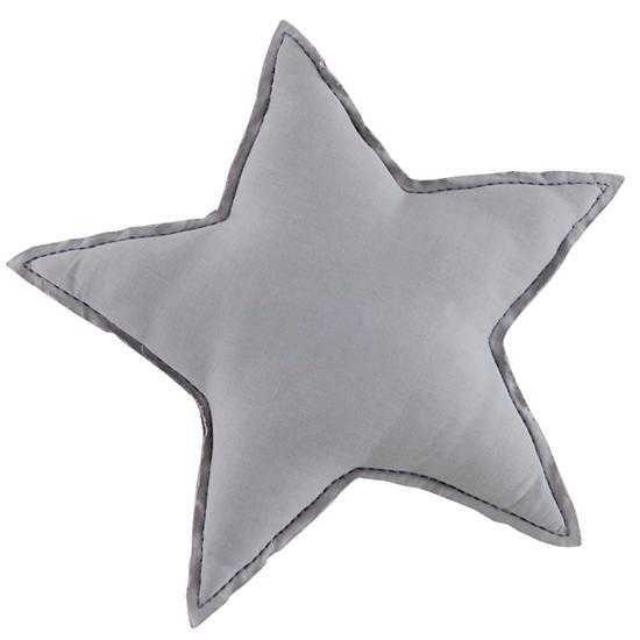pillow: (5, 19, 625, 627)
